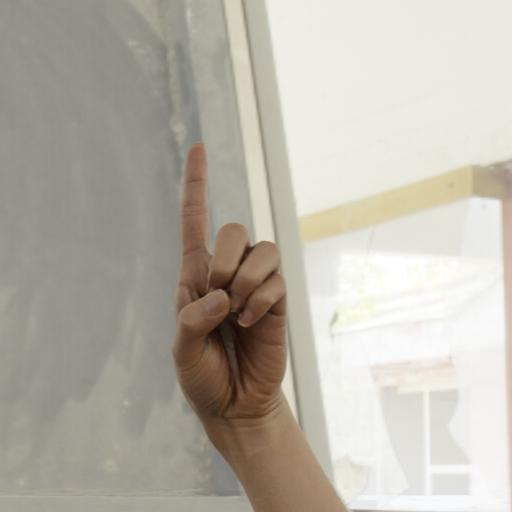D: (154, 124, 320, 420)
